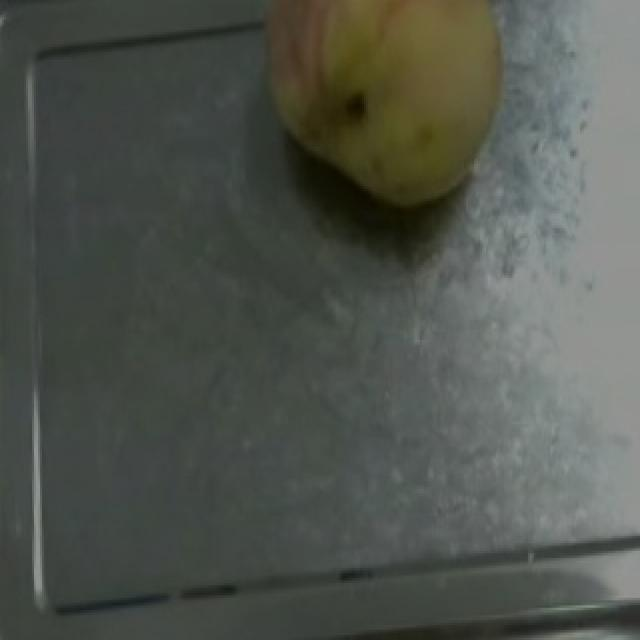Fruit: (230, 0, 530, 231)
